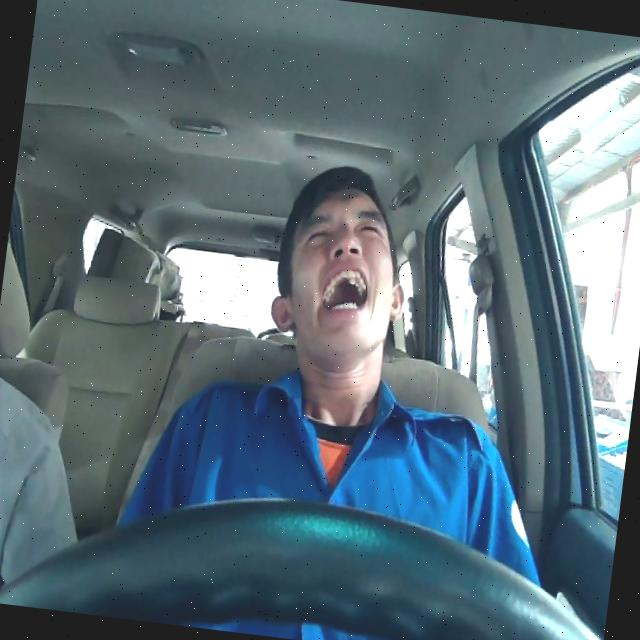yarning: (265, 175, 416, 366)
